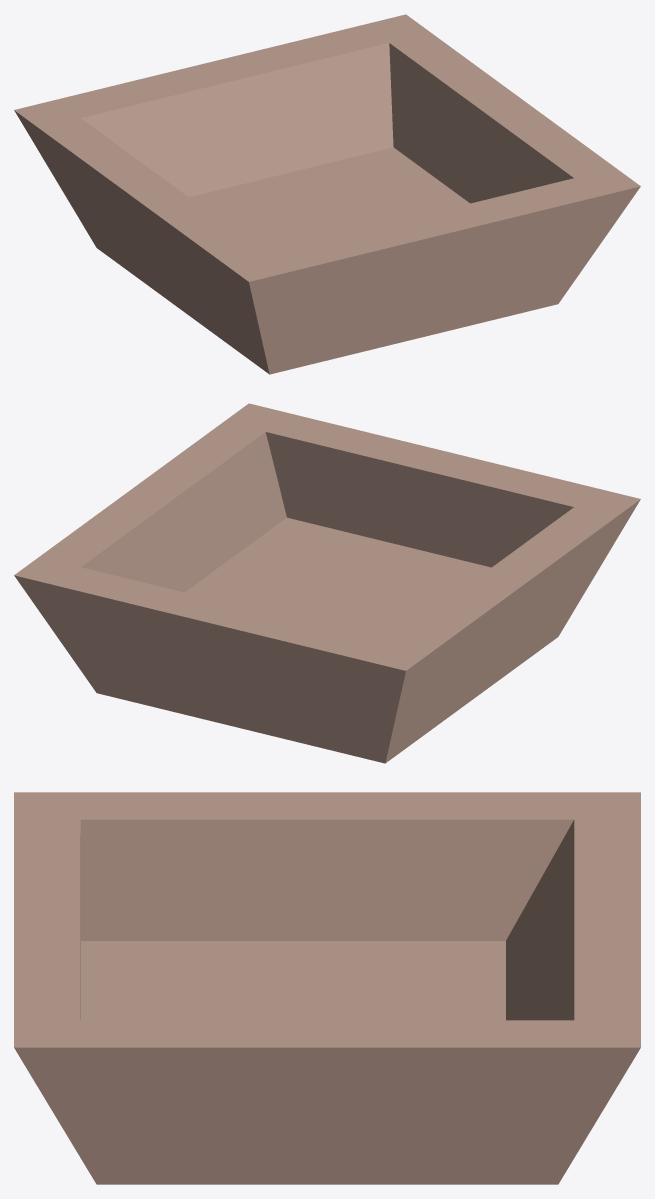
The model's file is Bowl 02.FBX.
3 views of the same model, one above another, from view 1: azimuth 30°, elevation 25°; view 2: azimuth 150°, elevation 25°; view 3: azimuth 270°, elevation 25° (orthographic). The views are drawn at different scales.
Parts seen in each view (by area): view 1: Bowl 02; view 2: Bowl 02; view 3: Bowl 02.
Boxes of the visible parts, x1=… form: Bowl 02: x1=14, y1=14, x2=640, y2=374; Bowl 02: x1=14, y1=403, x2=640, y2=763; Bowl 02: x1=14, y1=792, x2=640, y2=1184.
Bounding box in the file's own units: 81.85 × 25.51 × 84.94.
